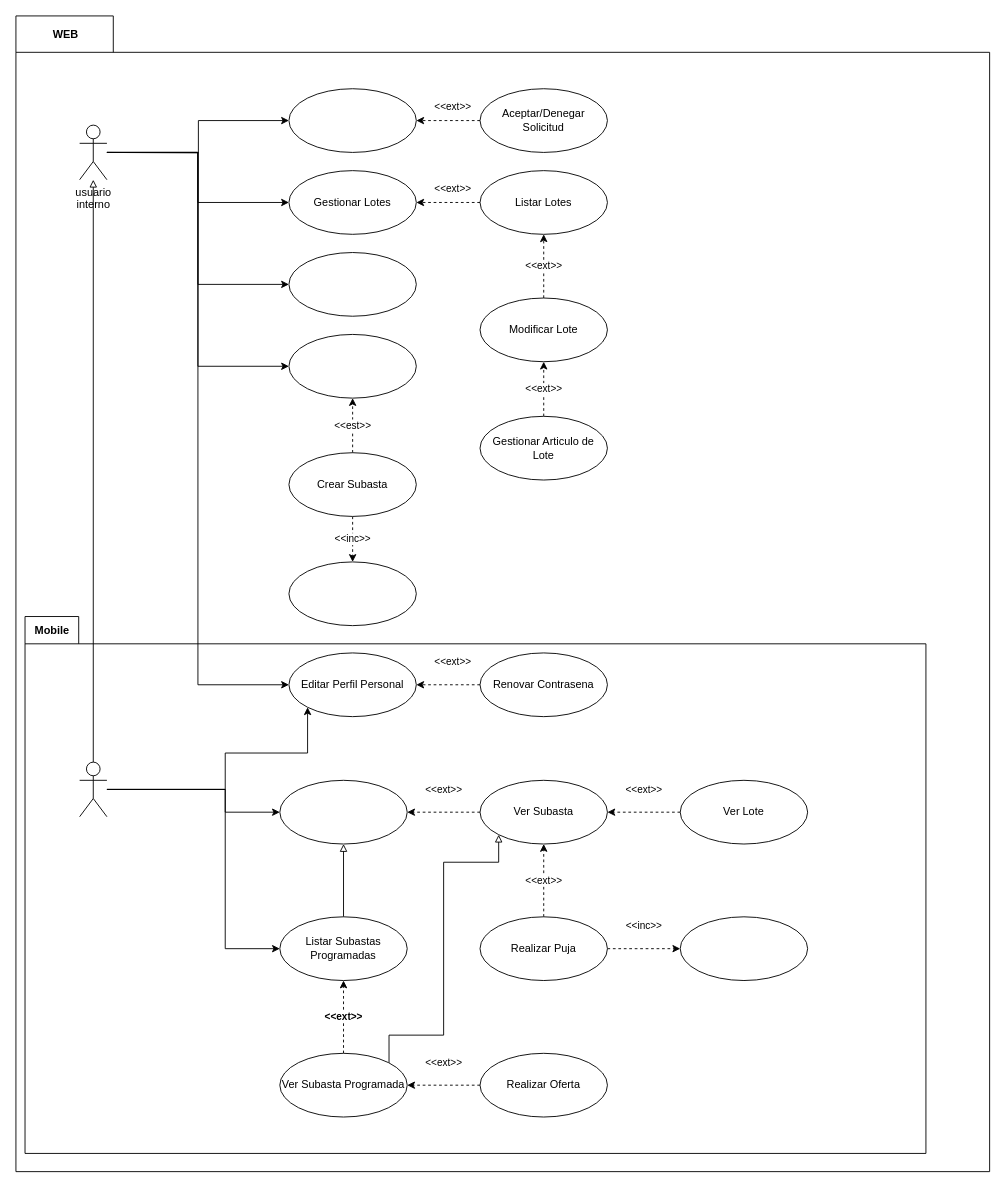
Image size: 1006x1188. Some labels were removed from this diagram. Here are the shapes that lost their labels. From the top down, the box of each, then its label:
(288, 88, 416, 152): Gestionar solicitudes de alta para cuenta
(288, 252, 416, 316): Gestionar Cuentas de Usuarios Externos
(288, 334, 416, 398): Gestionar Subasta
(288, 561, 416, 626): Seleccionar Lote
(79, 761, 107, 817): Usuario Externo
(279, 779, 407, 844): Listar Subastas Activas
(679, 916, 808, 981): Confirmar Participacion
